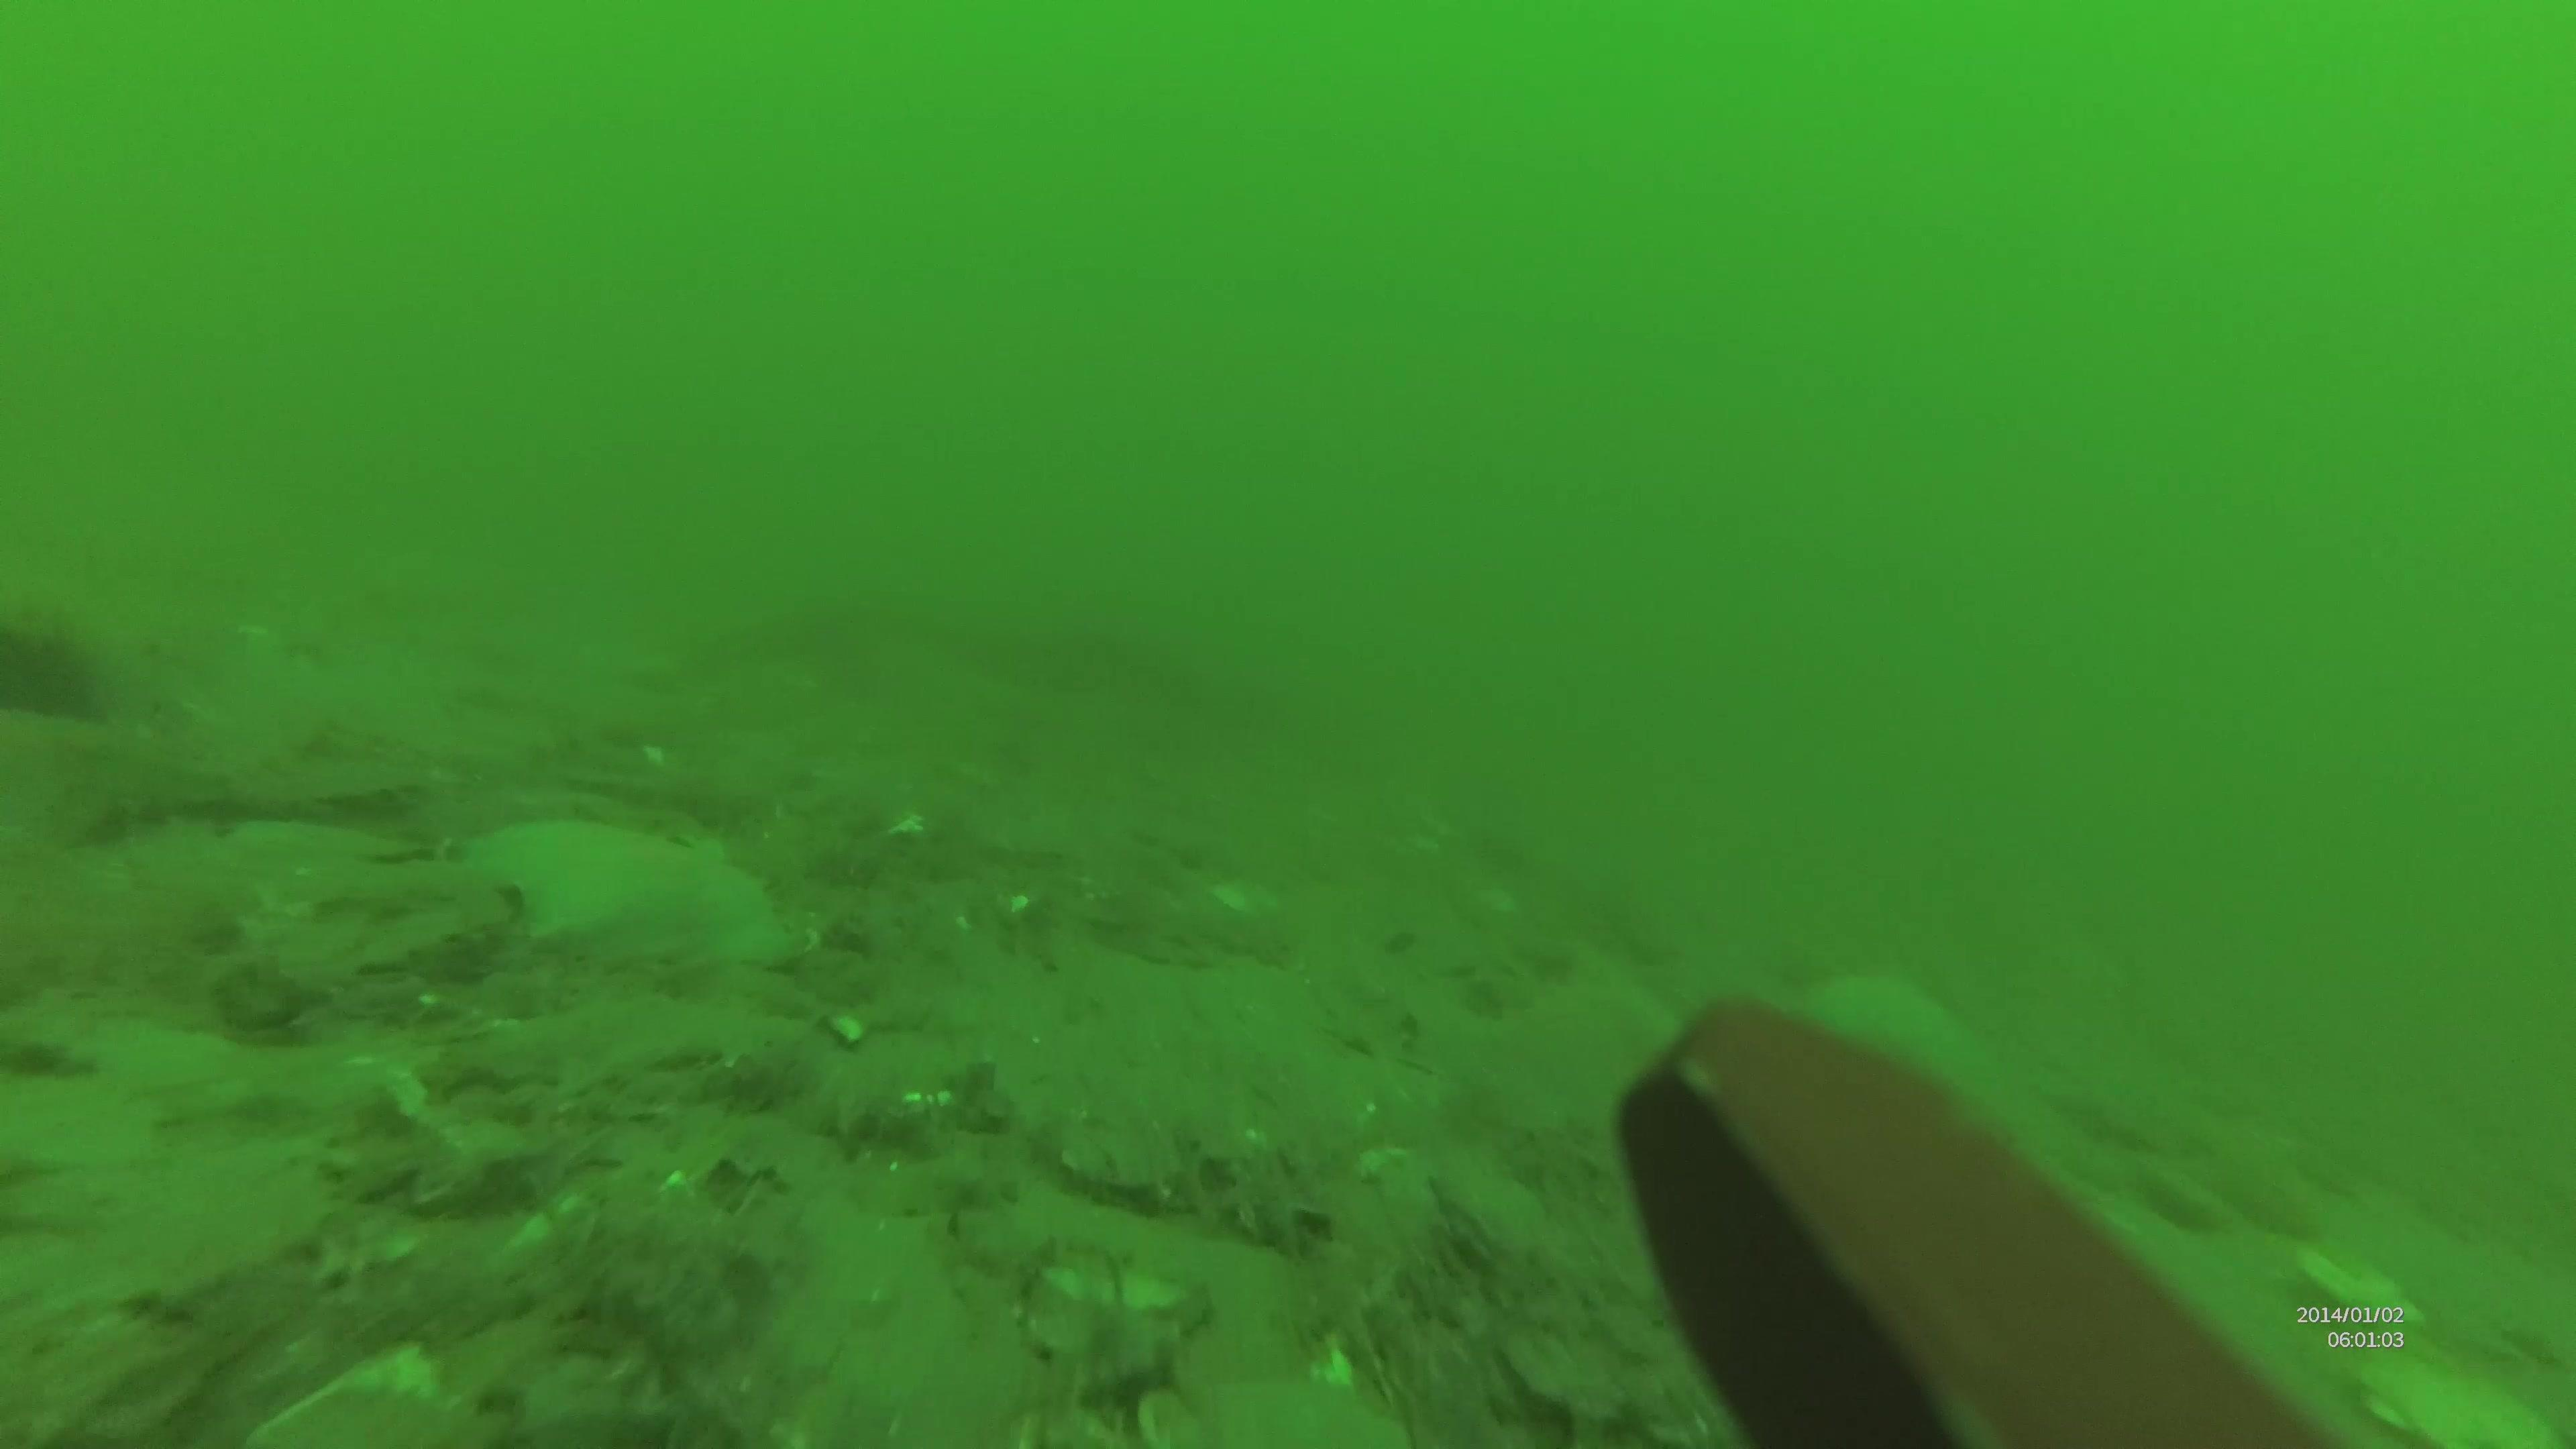echinus: (2, 616, 103, 732)
holothurian: (108, 755, 418, 837)
starfish: (458, 809, 786, 970)
